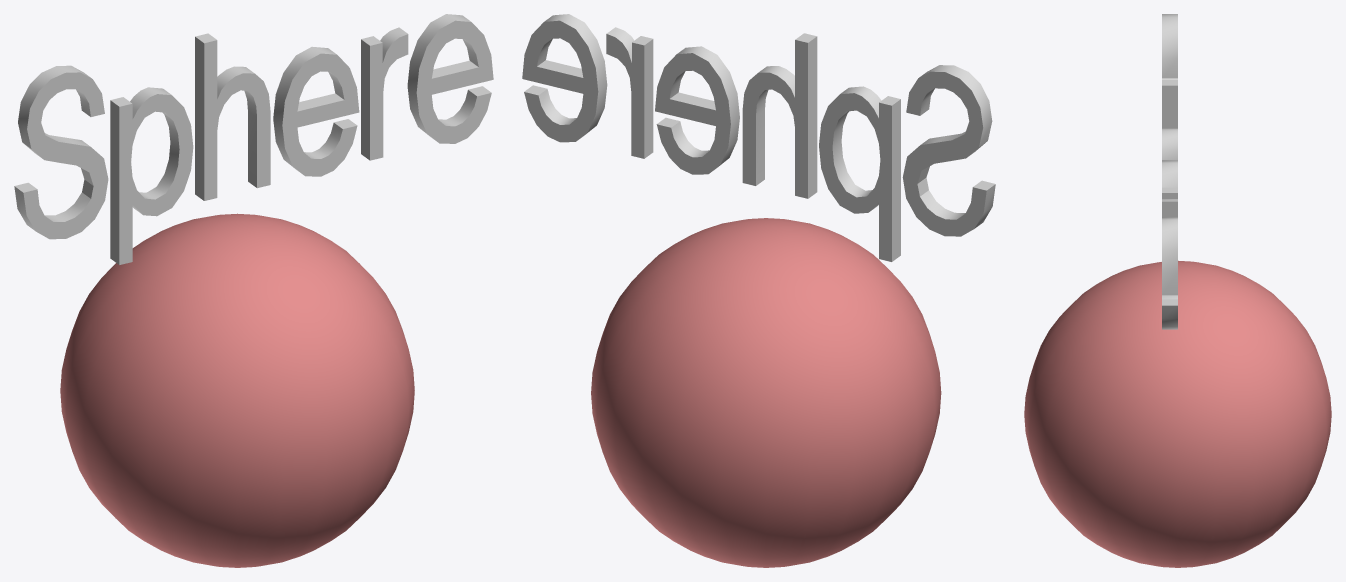
File: asset.glb
3 views of the same model, side by side, from view 1: azimuth 30°, elevation 25°; view 2: azimuth 150°, elevation 25°; view 3: azimuth 270°, elevation 25° (orthographic). The views are drawn at different scales.
Parts seen in each view (by area): view 1: Sphere, Text; view 2: Sphere, Text; view 3: Sphere, Text.
Part boxes in pixels (x1,y1,x2,y2): Sphere: [60, 213, 414, 567]; Text: [14, 14, 493, 264]; Sphere: [591, 218, 941, 567]; Text: [522, 14, 995, 261]; Sphere: [1024, 260, 1331, 567]; Text: [1162, 14, 1177, 329].
Bounding box in the file's own units: 2.35 × 2.53 × 1.53.
